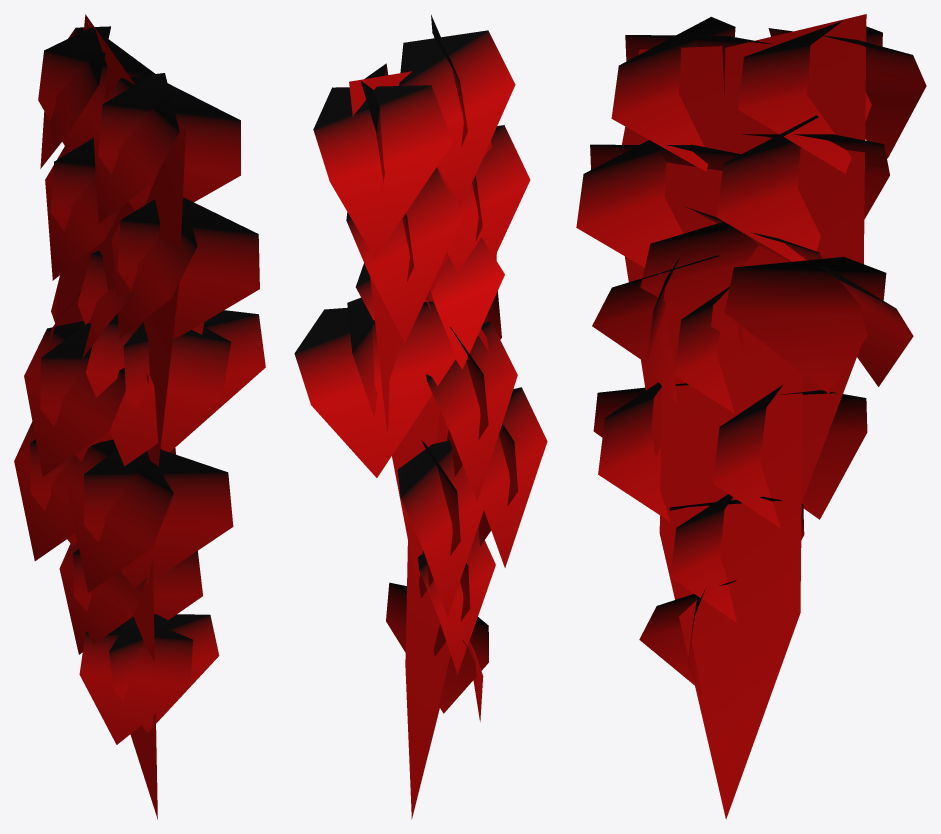
The model's file is SM_Vines_08.fbx.
3 views of the same model, side by side, from view 1: azimuth 30°, elevation 25°; view 2: azimuth 150°, elevation 25°; view 3: azimuth 270°, elevation 25° (orthographic). The views are drawn at different scales.
Parts seen in each view (by area): view 1: SM_Vines_08_LOD0; view 2: SM_Vines_08_LOD0; view 3: SM_Vines_08_LOD0.
Boxes of the visible parts, bbox=[...] form: SM_Vines_08_LOD0: bbox=[14, 14, 265, 819]; SM_Vines_08_LOD0: bbox=[294, 14, 547, 819]; SM_Vines_08_LOD0: bbox=[576, 14, 926, 819].
Bounding box in the file's own units: 114 × 198 × 500.
